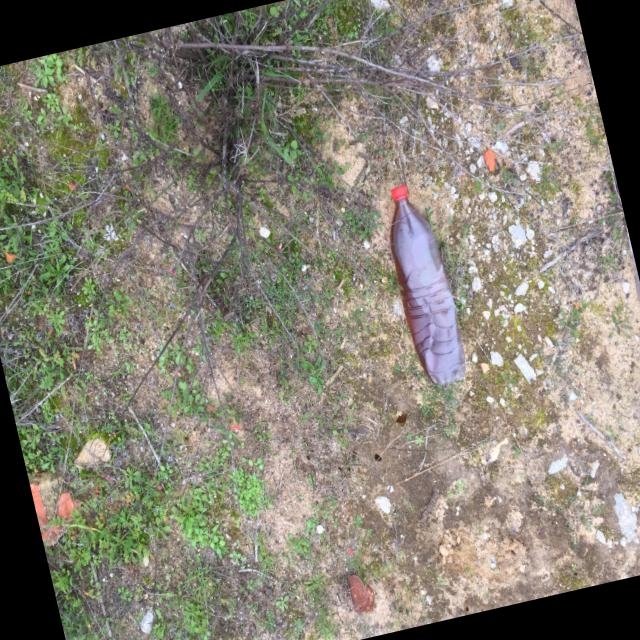less trash: (390, 185, 465, 383)
